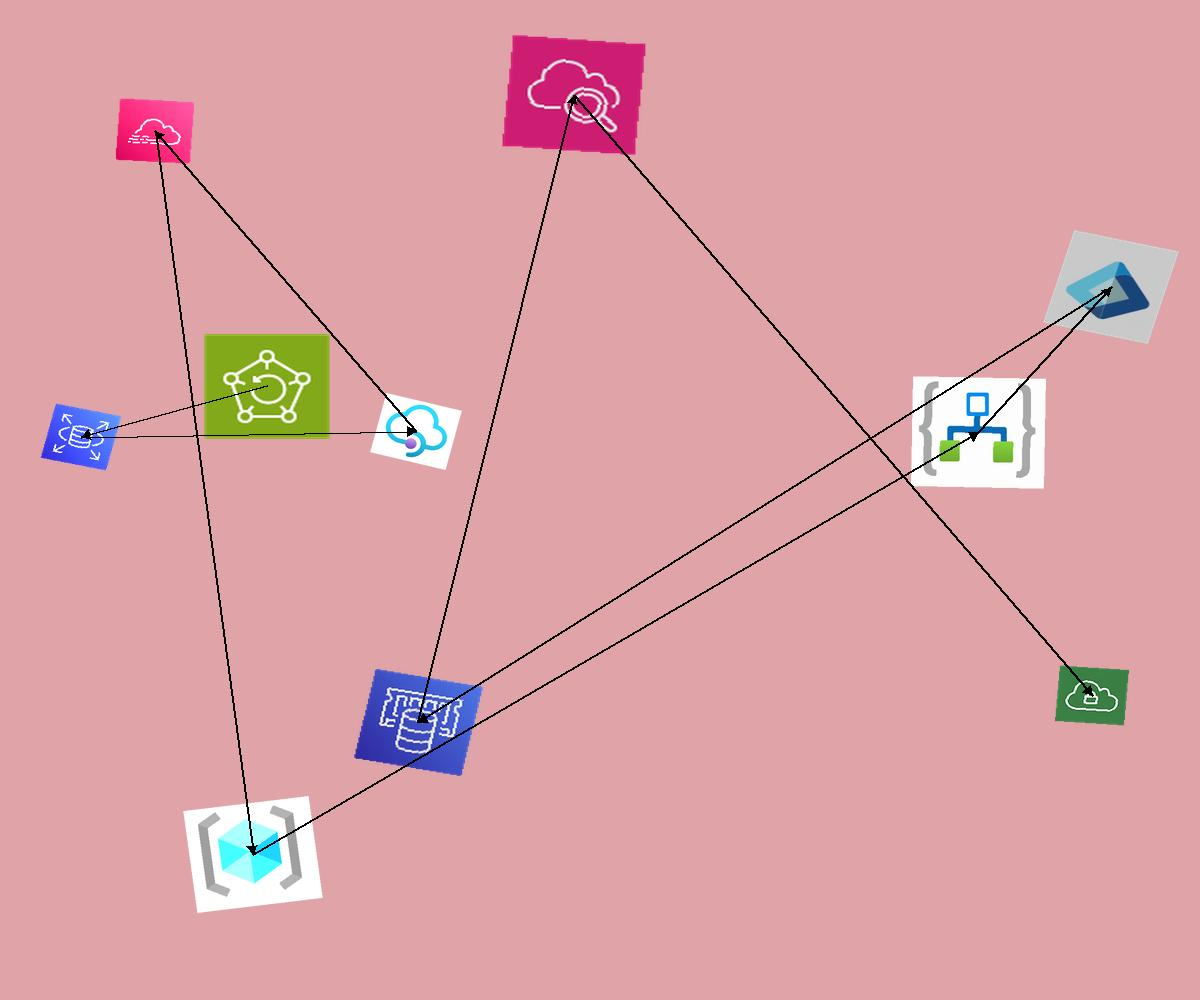AWS-Backup: (203, 333, 331, 440)
AWS-CloudTrail: (115, 98, 195, 164)
AWS-CloudWatch: (501, 34, 647, 156)
AWS-ElastiCache: (353, 668, 484, 777)
AWS-Private_vpc: (1055, 665, 1129, 726)
AWS-RDS: (40, 403, 122, 471)
Azure_api_gateway: (370, 393, 462, 470)
Azure_integration-204-Logic-Apps: (911, 376, 1046, 489)
Azure_microsoft_entra: (1043, 230, 1179, 344)
Azure_resource_group: (183, 796, 323, 913)
